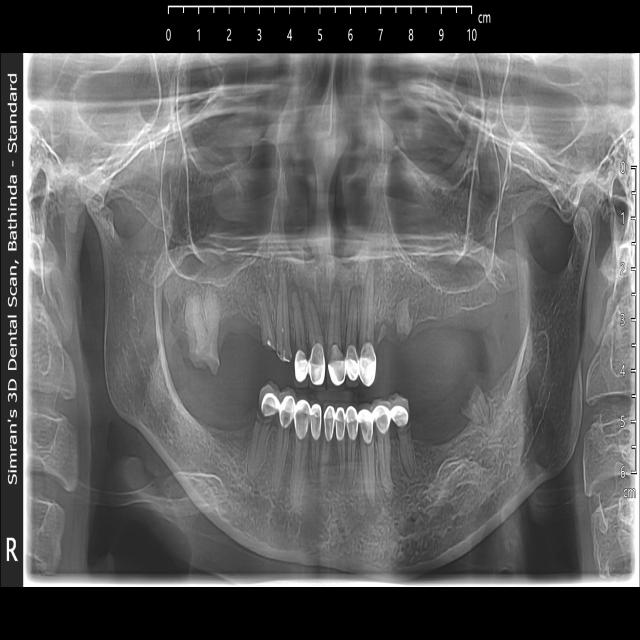Caries: (188, 341, 220, 383)
Crown: (358, 340, 377, 386), (327, 345, 346, 387), (293, 396, 311, 440), (279, 386, 297, 429), (259, 384, 280, 420), (309, 345, 326, 388), (346, 341, 361, 388), (359, 404, 375, 447), (374, 399, 393, 435), (390, 391, 408, 426), (294, 351, 309, 390), (346, 407, 360, 445), (335, 403, 347, 444), (324, 406, 336, 443), (311, 404, 321, 442)
Mandibular Canal: (127, 304, 291, 526), (409, 323, 565, 542)
Missing teeth: (408, 392, 465, 445), (218, 308, 264, 373), (412, 308, 476, 353), (200, 393, 259, 434)
Periapical lesion: (398, 442, 422, 483), (364, 495, 390, 524), (301, 278, 317, 313), (330, 278, 343, 311), (349, 278, 362, 299), (288, 278, 302, 296)
Root Piece: (258, 285, 276, 346), (462, 388, 491, 423), (395, 299, 415, 342), (377, 325, 389, 343)
maxillary sinus: (160, 84, 280, 283), (385, 127, 510, 294)
